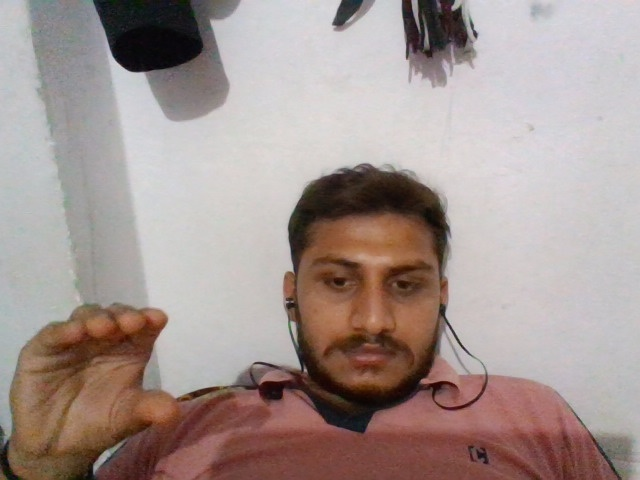No: (6, 296, 189, 457)
